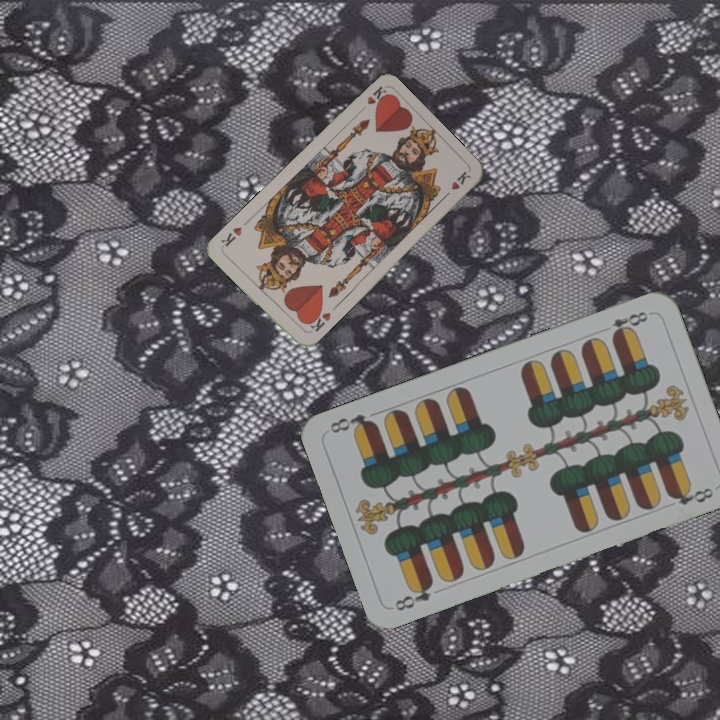E8: (390, 576, 436, 614), (607, 307, 651, 341)
HK: (354, 82, 390, 117), (303, 306, 333, 336)
